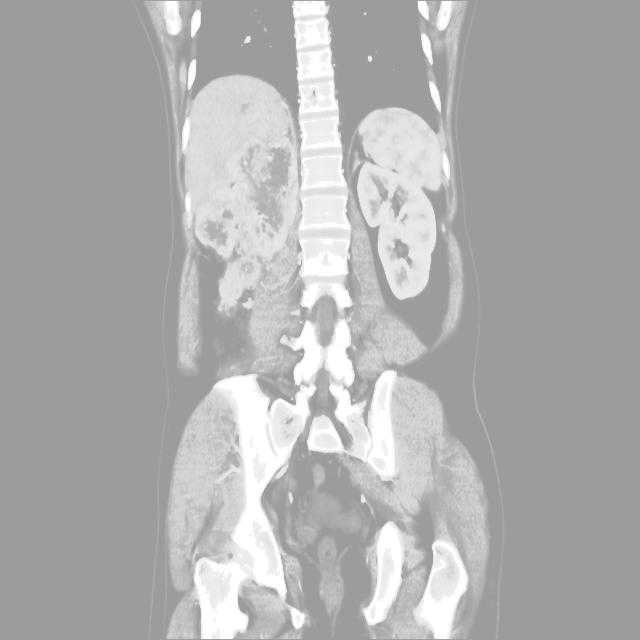TUMOR: (128, 113, 512, 393)
